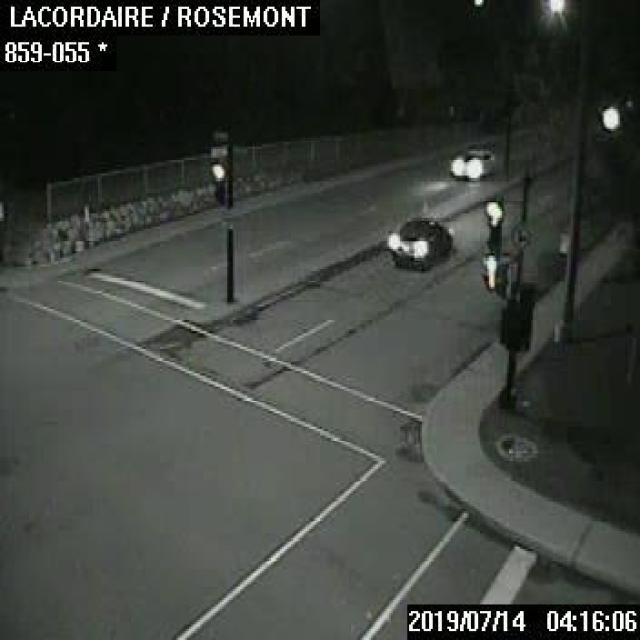vehicle: (391, 217, 452, 265), (451, 146, 496, 178)
